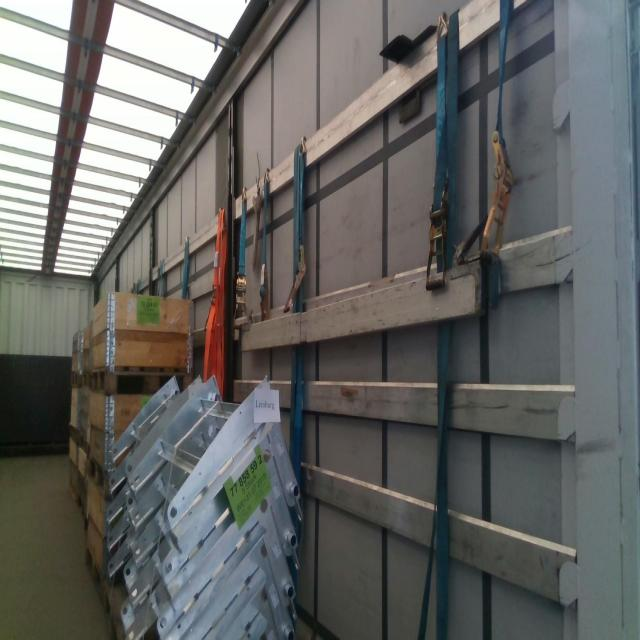pallet: (92, 369, 195, 398), (89, 452, 117, 503), (85, 542, 105, 612), (105, 580, 125, 640), (70, 369, 94, 394), (76, 491, 87, 538), (78, 428, 90, 458), (69, 423, 78, 448), (70, 480, 75, 501)
